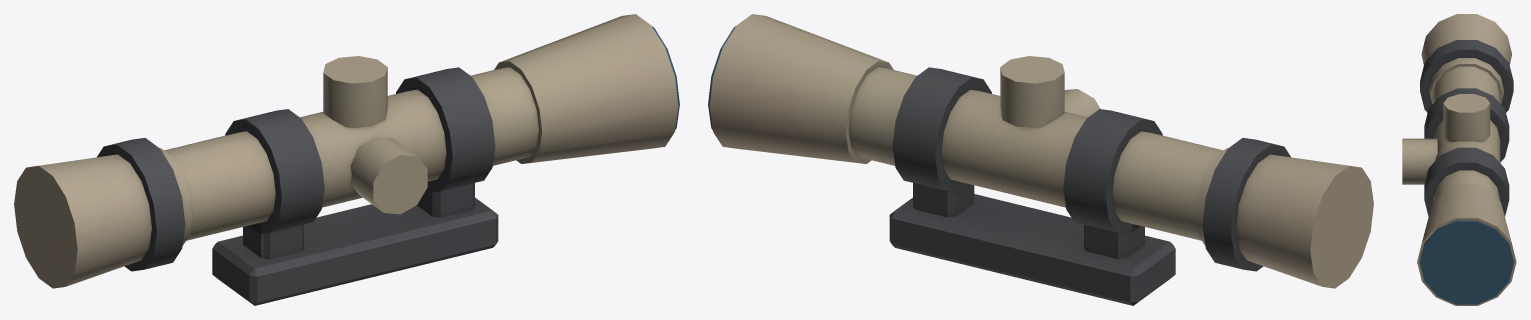
Rendered from AT_LPVO.fbx.
3 renders of one model, left to right at view 1: azimuth 30°, elevation 25°; view 2: azimuth 150°, elevation 25°; view 3: azimuth 270°, elevation 25°, orthographic. The views are drawn at different scales.
Parts seen in each view (by area): view 1: AT_LPVO; view 2: AT_LPVO; view 3: AT_LPVO.
Boxes of the visible parts, box(x1,y1,x2,y2) form: AT_LPVO: box(14, 14, 679, 305); AT_LPVO: box(708, 14, 1373, 305); AT_LPVO: box(1402, 14, 1516, 305).
Size of the model in its own units: 0.169 by 0.052 by 0.039.
1 material, 1 textured.
